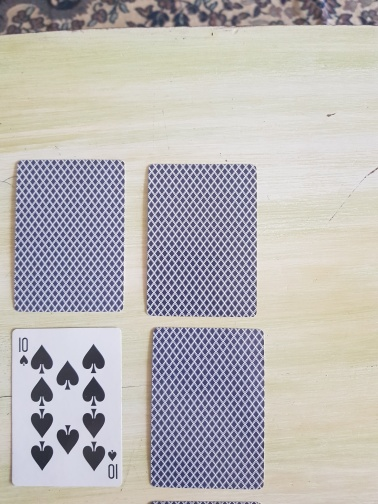ten: (9, 326, 124, 488)
